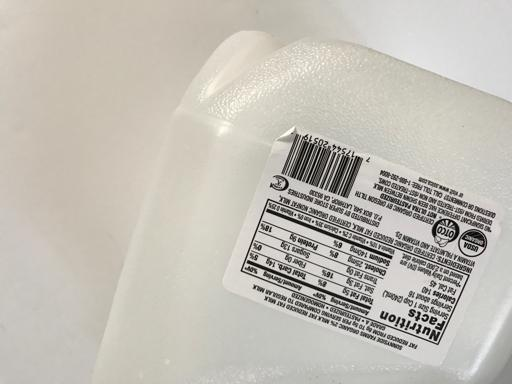bottle: (156, 26, 510, 381)
